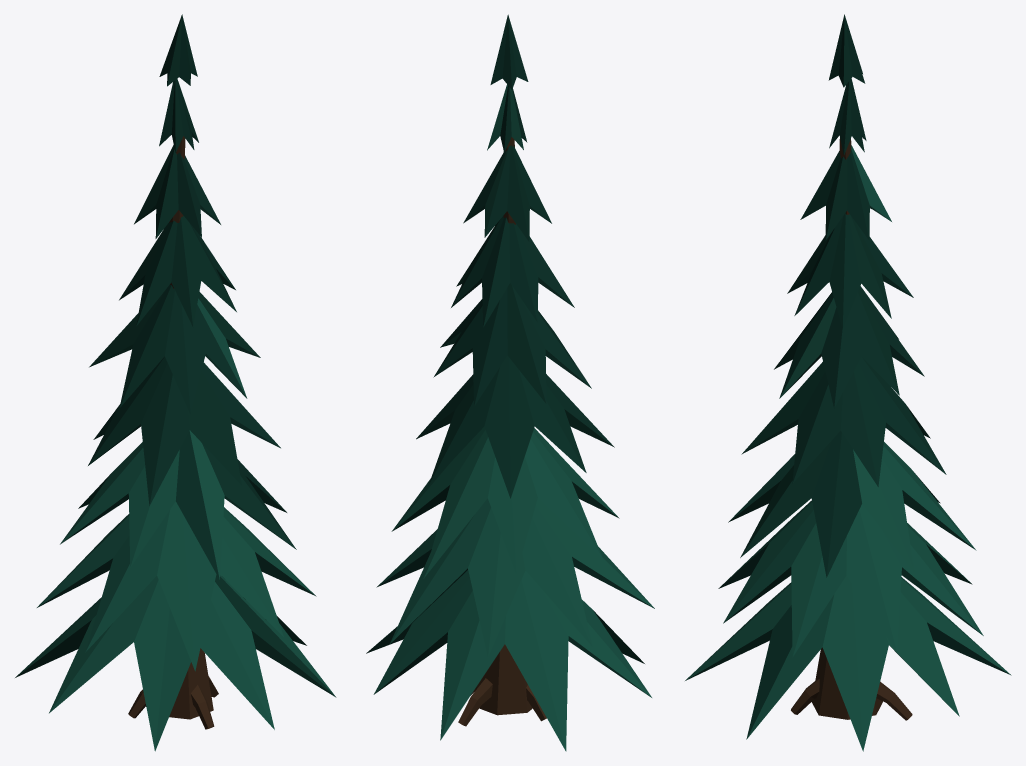
File: tree_fir.glb
The picture shows the model from 3 angles, left to right: view 1: azimuth 30°, elevation 25°; view 2: azimuth 150°, elevation 25°; view 3: azimuth 270°, elevation 25°; orthographic projection.
Visible parts, largest first — view 1: TreeFir; view 2: TreeFir; view 3: TreeFir.
Part boxes in pixels (x1,y1,x2,y2): TreeFir: (15,14,336,751); TreeFir: (366,14,654,751); TreeFir: (685,14,1011,751).
Bounding box in the file's own units: 3.16 × 7.68 × 3.26.
